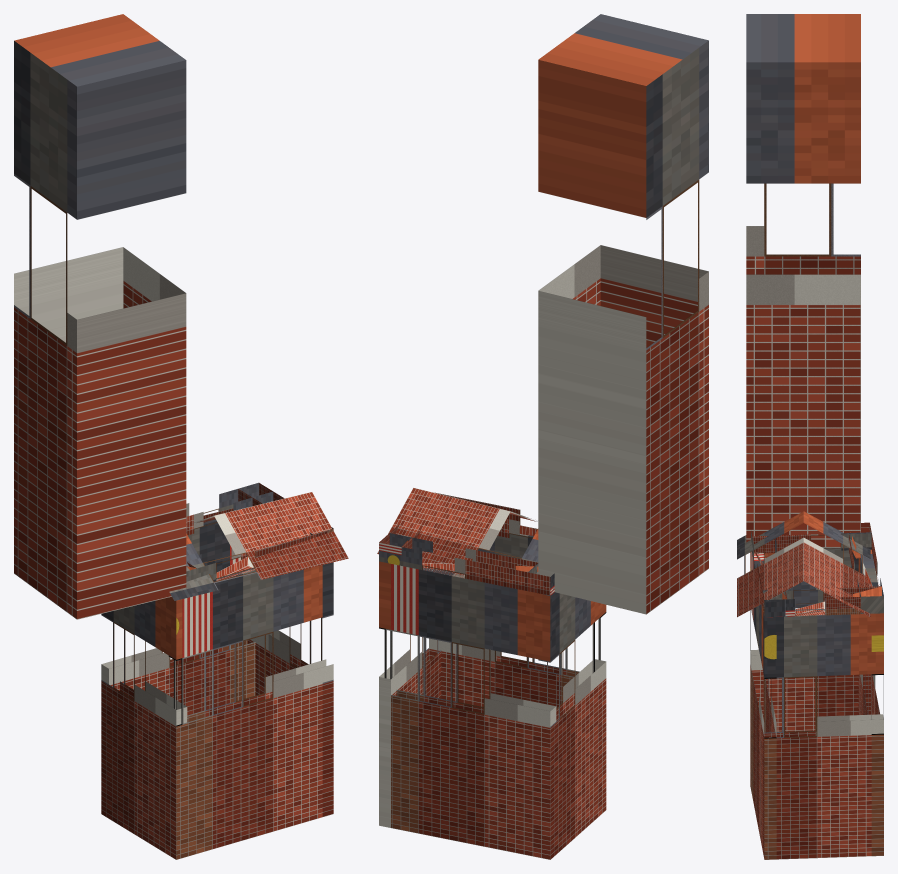
The picture shows the model from 3 angles, left to right: view 1: azimuth 30°, elevation 25°; view 2: azimuth 150°, elevation 25°; view 3: azimuth 270°, elevation 25°; orthographic projection. The views are drawn at different scales.
Parts seen in each view (by area): view 1: 238625163__chimney_0_xb, 238625163__wall_0_xb, 238625163__wall_3_xb, 238625163_roof_-1_xb, 238625163__wall_2_xb, 238625163__wall_1_xb, 238625163__cornice_0, 238625163__cornice_2; view 2: 238625163__chimney_0_xb, 238625163__wall_2_xb, 238625163__wall_3_xb, 238625163__wall_0_xb, 238625163_roof_1_xb, 238625163__wall_1_xb, 238625163__cornice_2, 238625163__cornice_0; view 3: 238625163__chimney_0_xb, 238625163__wall_1_xb, 238625163__wall_3_xb, 238625163__wall_0_xb, 238625163_roof_-1_xb, 238625163_roof_1_xb, 238625163__wall_2_xb, 238625163__cornice_1, 238625163__cornice_3, 238625163__cornice_2, 238625163__cornice_0.
Part boxes in pixels (x1=…): 238625163__chimney_0_xb: x1=14, y1=14, x2=186, y2=619; 238625163__wall_0_xb: x1=168, y1=565, x2=333, y2=859; 238625163__wall_3_xb: x1=101, y1=596, x2=187, y2=859; 238625163_roof_-1_xb: x1=169, y1=492, x2=348, y2=600; 238625163__wall_2_xb: x1=101, y1=519, x2=255, y2=715; 238625163__wall_1_xb: x1=248, y1=562, x2=333, y2=816; 238625163__cornice_0: x1=186, y1=530, x2=329, y2=581; 238625163__cornice_2: x1=186, y1=482, x2=273, y2=535; 238625163__chimney_0_xb: x1=538, y1=14, x2=708, y2=614; 238625163__wall_2_xb: x1=379, y1=564, x2=556, y2=859; 238625163__wall_3_xb: x1=538, y1=592, x2=606, y2=859; 238625163__wall_0_xb: x1=429, y1=534, x2=606, y2=707; 238625163_roof_1_xb: x1=377, y1=487, x2=554, y2=595; 238625163__wall_1_xb: x1=379, y1=561, x2=441, y2=827; 238625163__cornice_2: x1=379, y1=533, x2=550, y2=595; 238625163__cornice_0: x1=435, y1=492, x2=537, y2=538; 238625163__chimney_0_xb: x1=746, y1=14, x2=860, y2=547; 238625163__wall_1_xb: x1=763, y1=610, x2=883, y2=859; 238625163__wall_3_xb: x1=750, y1=547, x2=870, y2=731; 238625163__wall_0_xb: x1=750, y1=551, x2=776, y2=859; 238625163_roof_-1_xb: x1=737, y1=511, x2=803, y2=617; 238625163_roof_1_xb: x1=803, y1=511, x2=870, y2=617; 238625163__wall_2_xb: x1=858, y1=549, x2=883, y2=856; 238625163__cornice_1: x1=762, y1=586, x2=881, y2=616; 238625163__cornice_3: x1=752, y1=523, x2=871, y2=553; 238625163__cornice_2: x1=848, y1=522, x2=883, y2=613; 238625163__cornice_0: x1=751, y1=531, x2=787, y2=617.
Bounding box in the file's own units: 0.3664 × 1.05 × 0.1922.
1 material, 1 textured.
